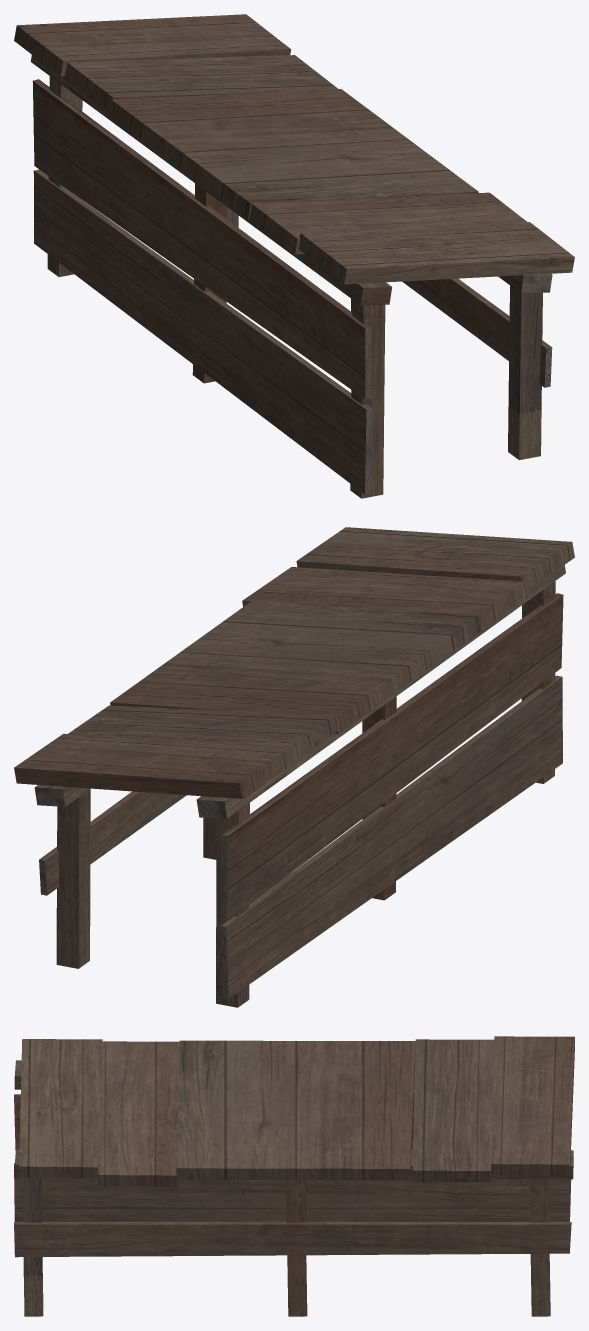
File: jov_house01prop_wood5.fbx
The picture shows the model from 3 angles, top to bottom: view 1: azimuth 30°, elevation 25°; view 2: azimuth 150°, elevation 25°; view 3: azimuth 270°, elevation 25°; orthographic projection. The views are drawn at different scales.
Parts seen in each view (by area): view 1: jov_house01prop_wood5; view 2: jov_house01prop_wood5; view 3: jov_house01prop_wood5.
Part boxes in pixels (x1,y1,x2,y2): jov_house01prop_wood5: [14, 14, 574, 498]; jov_house01prop_wood5: [14, 527, 574, 1007]; jov_house01prop_wood5: [14, 1036, 574, 1316].
Size of the model in its own units: 109 by 104 by 265.
